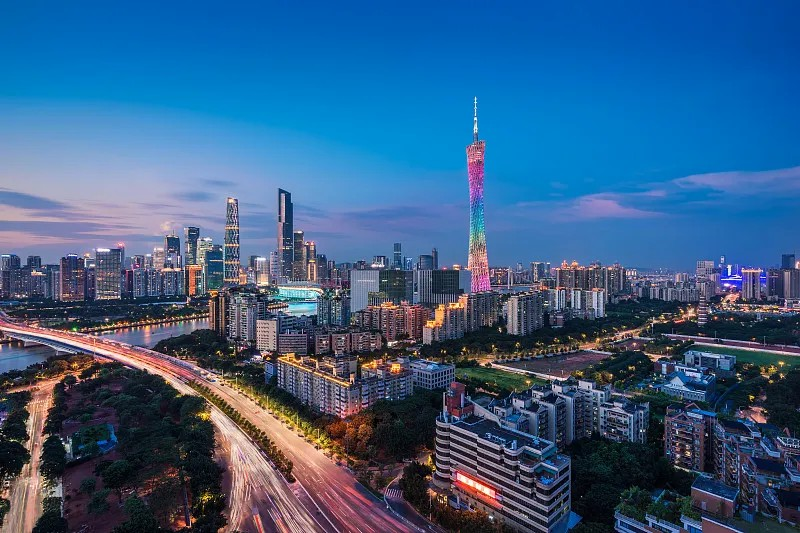Canton: (465, 94, 494, 294)
